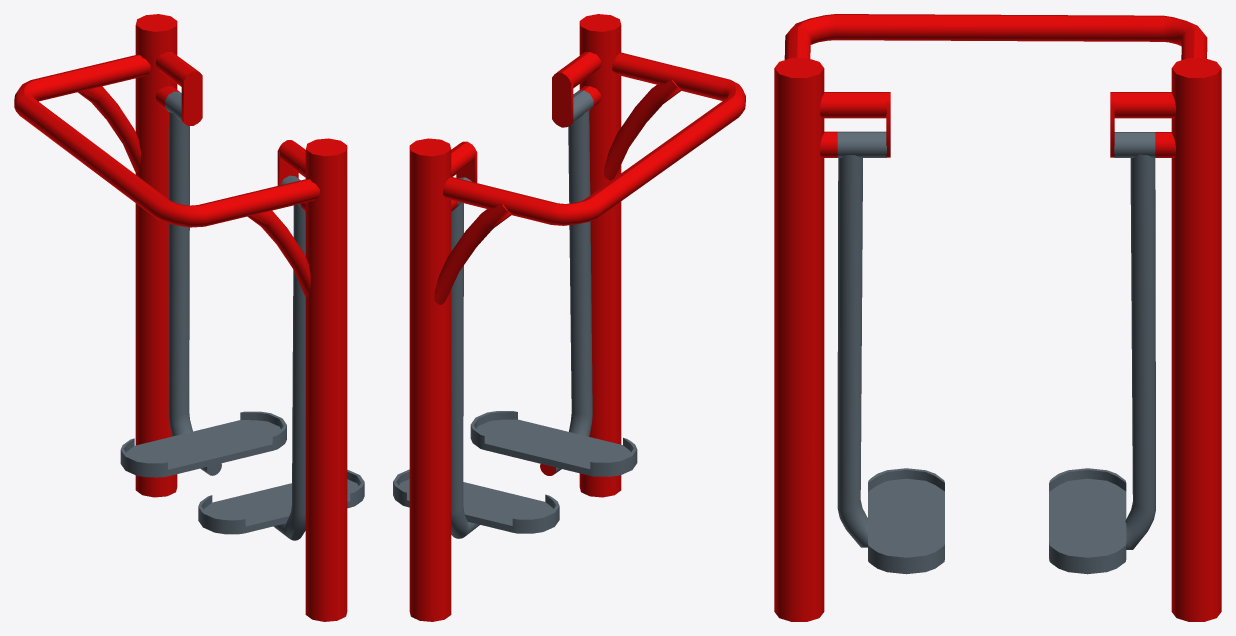
Rendered from MAQUINA DOS PIES.fbx.
3 renders of one model, left to right at view 1: azimuth 30°, elevation 25°; view 2: azimuth 150°, elevation 25°; view 3: azimuth 270°, elevation 25°, orthographic. The views are drawn at different scales.
Parts seen in each view (by area): view 1: MAQUINA DOS PIES; view 2: MAQUINA DOS PIES; view 3: MAQUINA DOS PIES.
Boxes of the visible parts, box(x1,y1,x2,y2) form: MAQUINA DOS PIES: box(14, 14, 364, 621); MAQUINA DOS PIES: box(393, 14, 745, 621); MAQUINA DOS PIES: box(774, 14, 1221, 621).
Size of the model in its own units: 241 by 454 by 338.
